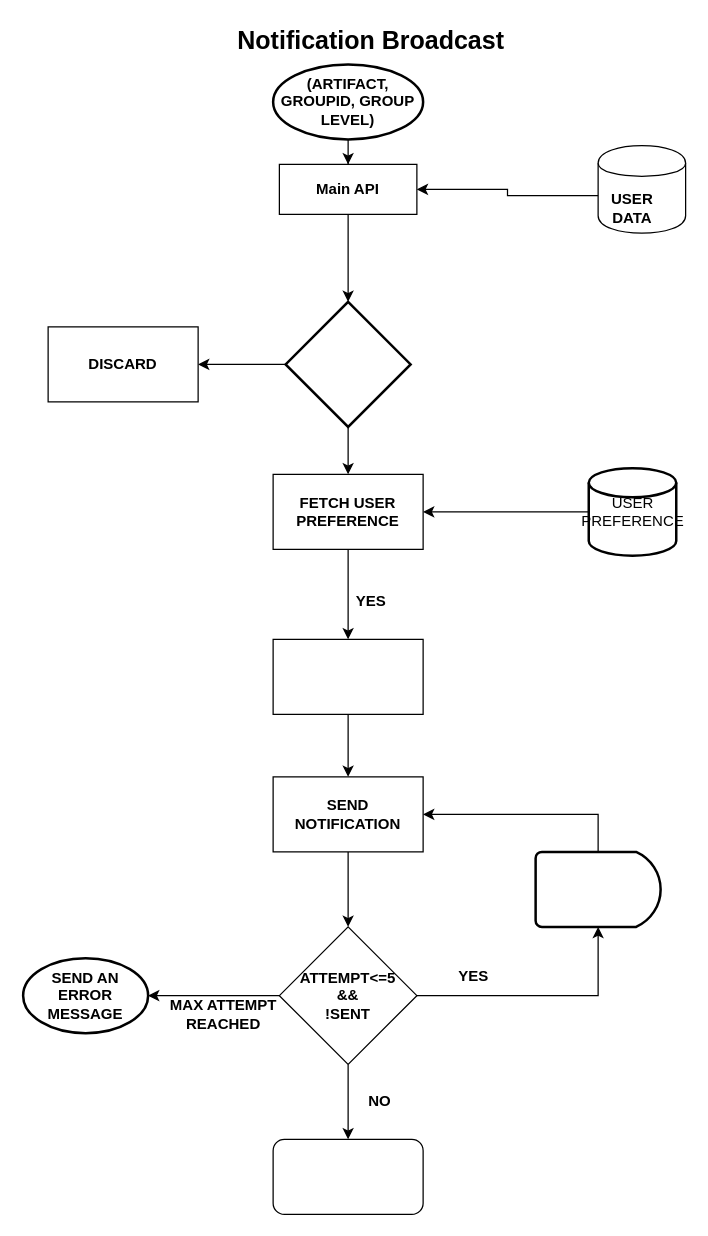
Image size: 708x1236. Some labels were removed from this diagram. Here are the shapes that lost their labels. From the top down, the centre of each, then its label:
the point at 347,364: VALID USER?
the point at 347,676: RUN DEFINED PROTOCOL FOR THE GROUP LEVEL
the point at 597,889: WAIT 30SEC AND RESEND
the point at 347,1176: STOP
